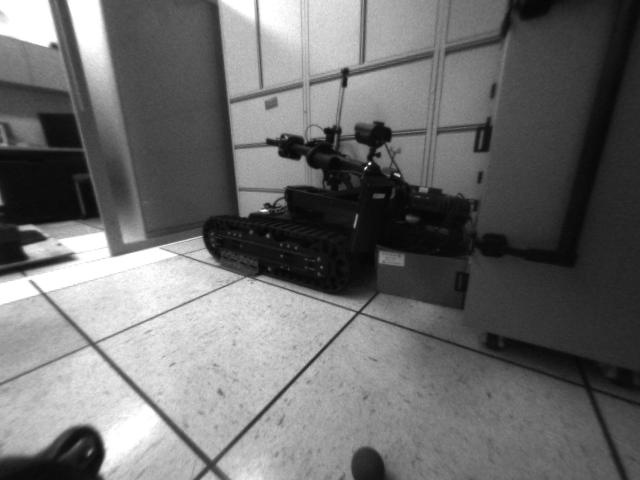dogtoy: (344, 439, 393, 480)
